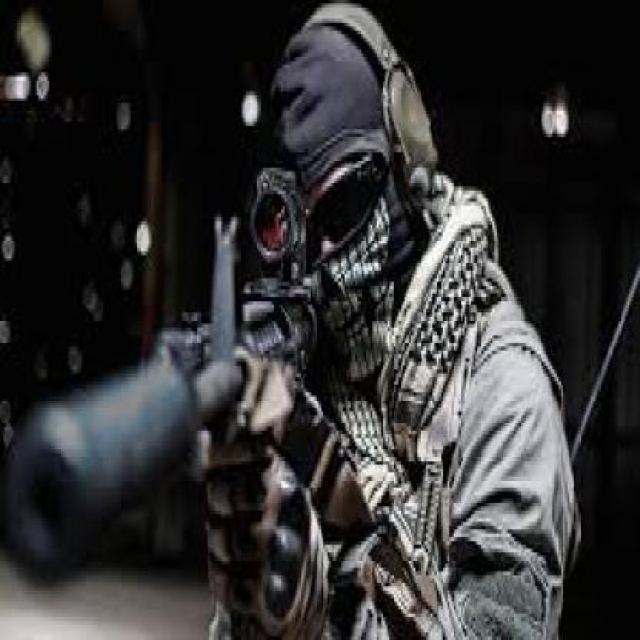MIL_Pax: (214, 7, 580, 636)
